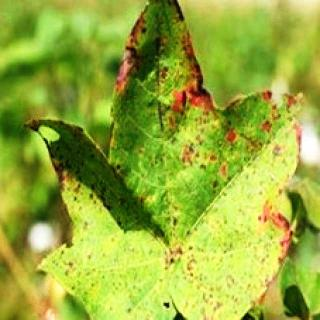leaf spot: (21, 8, 303, 320)
